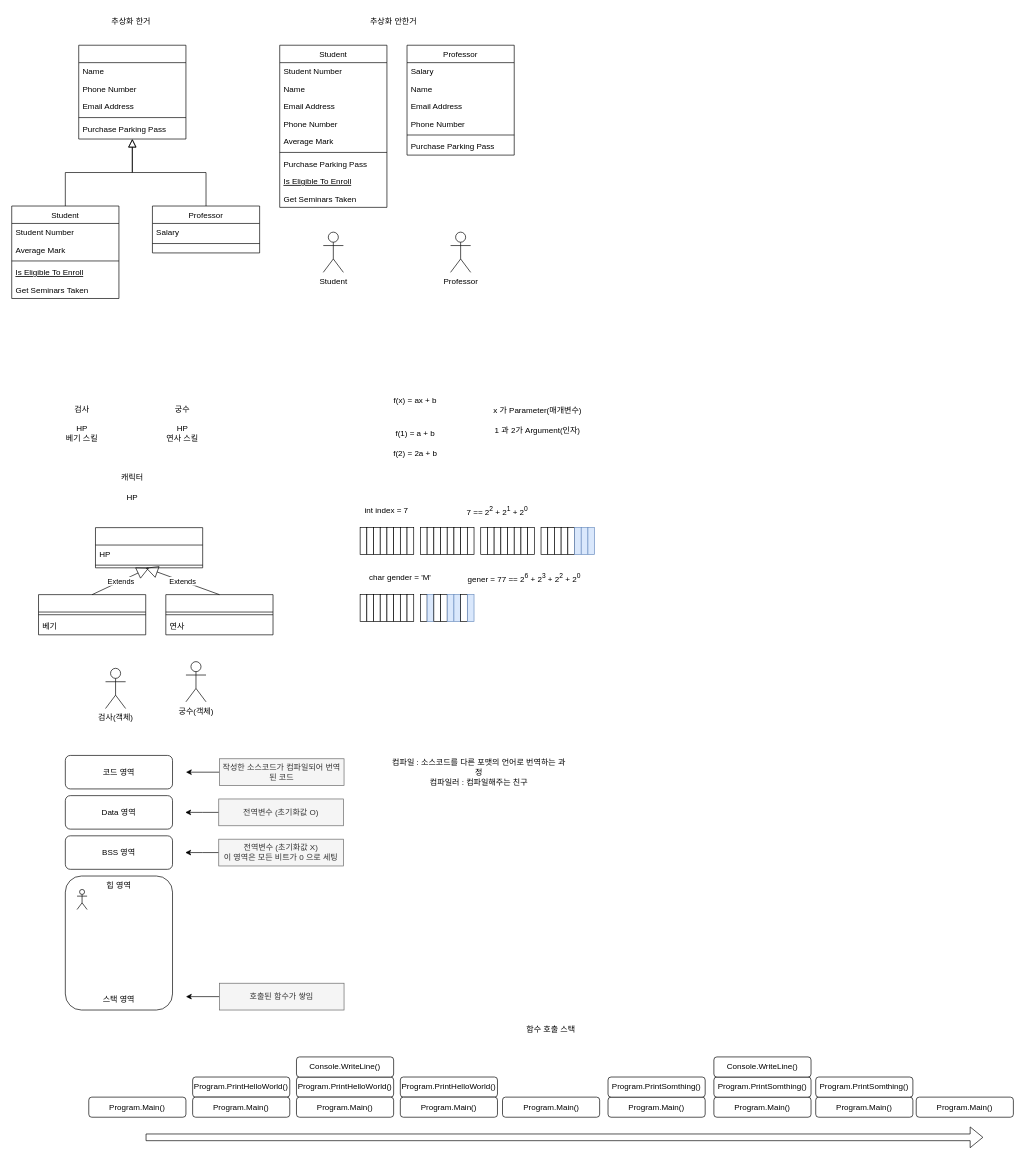
Image size: 1025x1159. Some labels were removed from this diagram. Here are the shapes that lost their labels. From the top down, the box of each, then its label:
(78, 45, 186, 139): Person
(95, 527, 203, 568): 캐릭터
(38, 594, 146, 635): 검사
(165, 594, 273, 635): 궁수
(76, 889, 87, 910): Actor
